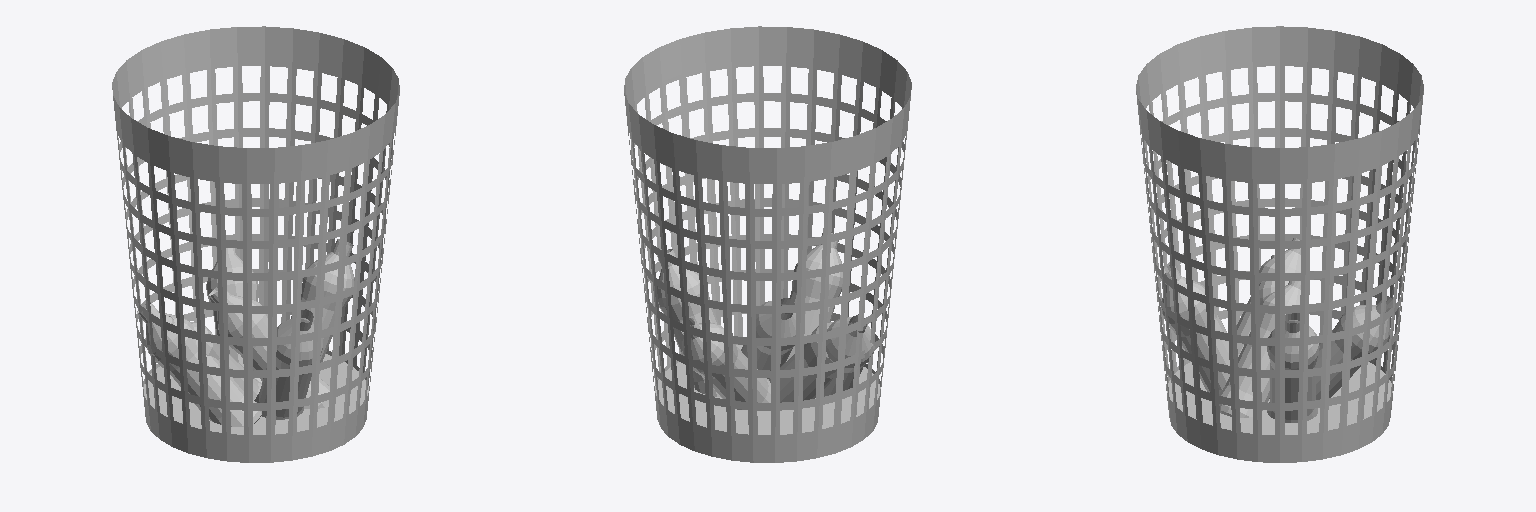
The model's file is DustbinWithCan_000040.obj.
The picture shows the model from 3 angles: view 1: azimuth 30°, elevation 25°; view 2: azimuth 150°, elevation 25°; view 3: azimuth 270°, elevation 25°; orthographic projection.
Visible parts, largest first — view 1: Cylinder, Plane.005, Plane.001, Plane.003, Plane.004, Plane.002, Plane.006; view 2: Cylinder, Plane.002, Plane.003, Plane.001, Plane.005, Plane.004, Plane.006; view 3: Cylinder, Plane.001, Plane.004, Plane.003, Plane.002, Plane.005.
Boxes of the visible parts, box(x1,y1,x2,y2) form: Cylinder: box(112, 26, 399, 462); Plane.005: box(137, 302, 261, 426); Plane.001: box(254, 309, 322, 419); Plane.003: box(291, 239, 354, 362); Plane.004: box(209, 287, 329, 408); Plane.002: box(206, 248, 261, 382); Plane.006: box(169, 316, 261, 399); Cylinder: box(624, 26, 911, 462); Plane.002: box(681, 318, 770, 409); Plane.003: box(657, 249, 719, 396); Plane.001: box(786, 233, 842, 361); Plane.005: box(824, 315, 874, 396); Plane.004: box(741, 298, 795, 378); Plane.006: box(769, 321, 863, 402); Cylinder: box(1136, 26, 1423, 462); Plane.001: box(1162, 265, 1238, 393); Plane.004: box(1219, 281, 1300, 417); Plane.003: box(1267, 313, 1319, 422); Plane.002: box(1316, 296, 1397, 399); Plane.005: box(1237, 238, 1300, 354).
Bounding box in the file's own units: 2.6 × 3.36 × 2.6.